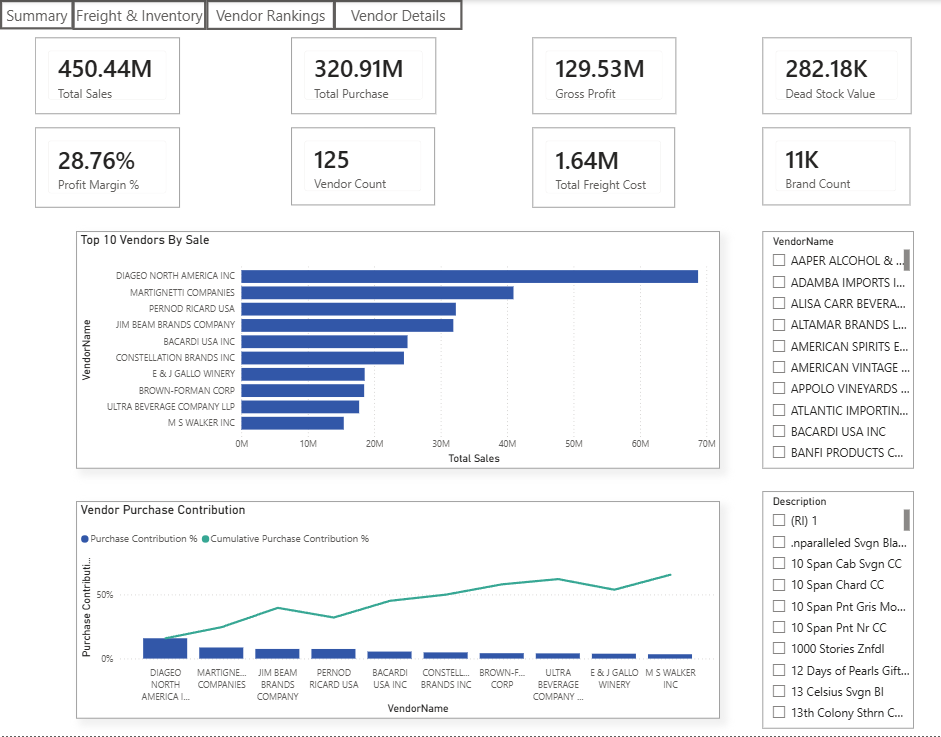

This screenshot's page, from the dashboard's own definition file:
{"tool":"powerbi","page":{"name":"Executive Summary","canvas":[1280,1000],"ordinal":0},"visuals":[{"type":"cardVisual","fields":{"Data":["vendor_sales_compressed.Total Sales","vendor_sales_compressed.Total Sales"]},"box":[47.6,51,197,103.6],"z":0},{"type":"cardVisual","fields":{"Data":["vendor_sales_compressed.Brand Count"]},"box":[1036,173.2,200.4,105.3],"z":1000},{"type":"cardVisual","fields":{"Data":["vendor_sales_compressed.Total Purchase"]},"box":[395.7,51,197,103.6],"z":2000},{"type":"cardVisual","fields":{"Data":["vendor_sales_compressed.Gross Profit"]},"box":[723.5,51,195.3,103.6],"z":3000},{"type":"cardVisual","fields":{"Data":["vendor_sales_compressed.Profit Margin %"]},"box":[47.6,173.2,197,108.7],"z":4000},{"type":"cardVisual","fields":{"Data":["vendor_sales_compressed.Vendor Count"]},"box":[395.7,173.2,195.3,105.3],"z":5000},{"type":"cardVisual","fields":{"Data":["vendor_sales_compressed.Dead Stock Value","vendor_sales_compressed.Dead Stock Value"]},"box":[1036,51,202.1,103.6],"z":6000},{"type":"cardVisual","fields":{"Data":["vendor_sales_compressed.Total Freight Cost"]},"box":[723.5,173.2,193.6,108.7],"z":7000},{"type":"clusteredBarChart","title":"Top 10 Vendors By Sale","fields":{"Category":["vendor_sales_compressed.VendorName"],"Y":["vendor_sales_compressed.Total Sales"]},"box":[103.6,314.2,874.7,322.7],"z":8000},{"type":"lineClusteredColumnComboChart","title":"Vendor Purchase Contribution","fields":{"Category":["vendor_sales_compressed.VendorName"],"Y":["vendor_sales_compressed.Purchase Contribution %"],"Y2":["vendor_sales_compressed.Cumulative Purchase Contribution %"]},"box":[103.6,681,874.7,295.5],"z":9000},{"type":"slicer","fields":{"Values":["vendor_sales_compressed.VendorName"]},"box":[1036,314.2,205.5,322.7],"z":10000},{"type":"slicer","fields":{"Values":["vendor_sales_compressed.Description"]},"box":[1036,667.5,205.5,322.7],"z":11000},{"type":"actionButton","box":[0,0,100,40],"z":11001},{"type":"actionButton","box":[98.5,0,181.7,40.8],"z":11002},{"type":"actionButton","box":[280.2,0,174.9,40.8],"z":11003},{"type":"actionButton","title":"Vendor Detail","box":[453.5,0,174.9,40.8],"z":11004}]}

Visuals, with their boxes in screenshot pixels (x1, y1, x2, y2), scaled from the page's 1280x1000 canvas onto the 941x737 screenshot:
cardVisual - vendor_sales_compressed.Total Sales x vendor_sales_compressed.Total Sales: 35, 38, 180, 114
cardVisual - vendor_sales_compressed.Brand Count: 762, 128, 909, 205
cardVisual - vendor_sales_compressed.Total Purchase: 291, 38, 436, 114
cardVisual - vendor_sales_compressed.Gross Profit: 532, 38, 675, 114
cardVisual - vendor_sales_compressed.Profit Margin %: 35, 128, 180, 208
cardVisual - vendor_sales_compressed.Vendor Count: 291, 128, 434, 205
cardVisual - vendor_sales_compressed.Dead Stock Value x vendor_sales_compressed.Dead Stock Value: 762, 38, 910, 114
cardVisual - vendor_sales_compressed.Total Freight Cost: 532, 128, 674, 208
"Top 10 Vendors By Sale" clusteredBarChart: 76, 232, 719, 469
"Vendor Purchase Contribution" lineClusteredColumnComboChart: 76, 502, 719, 720
slicer - vendor_sales_compressed.VendorName: 762, 232, 913, 469
slicer - vendor_sales_compressed.Description: 762, 492, 913, 730
actionButton: 0, 0, 74, 29
actionButton: 72, 0, 206, 30
actionButton: 206, 0, 335, 30
"Vendor Detail" actionButton: 333, 0, 462, 30
